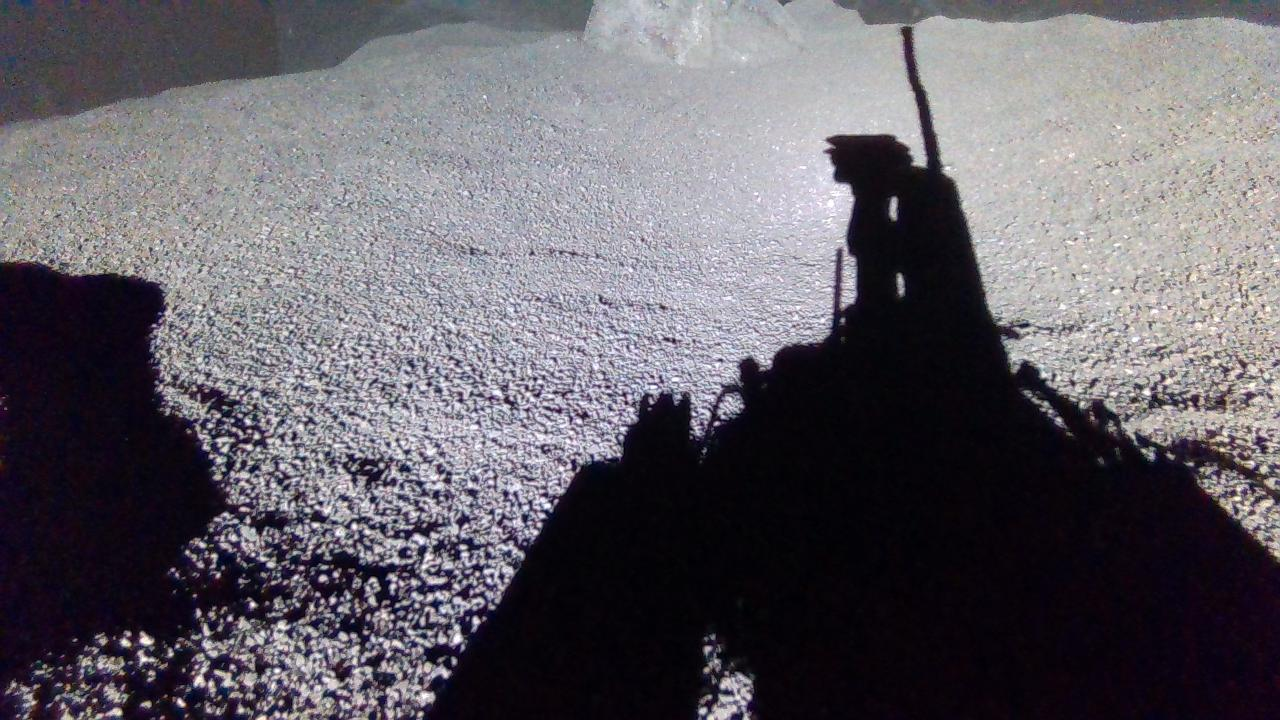rock: (585, 0, 804, 66)
